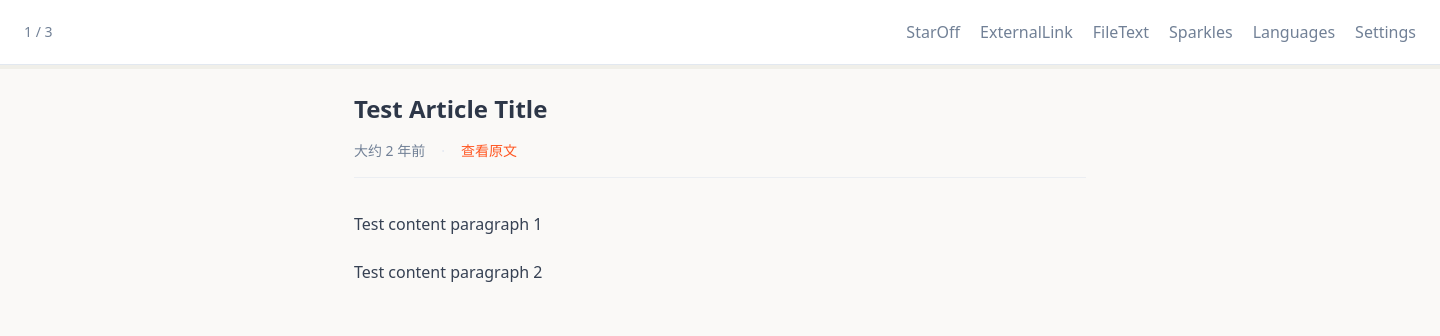
Test: ArticleViewer › error handling › should show error when generate summary fails
The image size is (1440, 336).
Step 1. Click the button titled "生成 AI 摘要" → (1201, 32), box [1161, 12, 1241, 52]
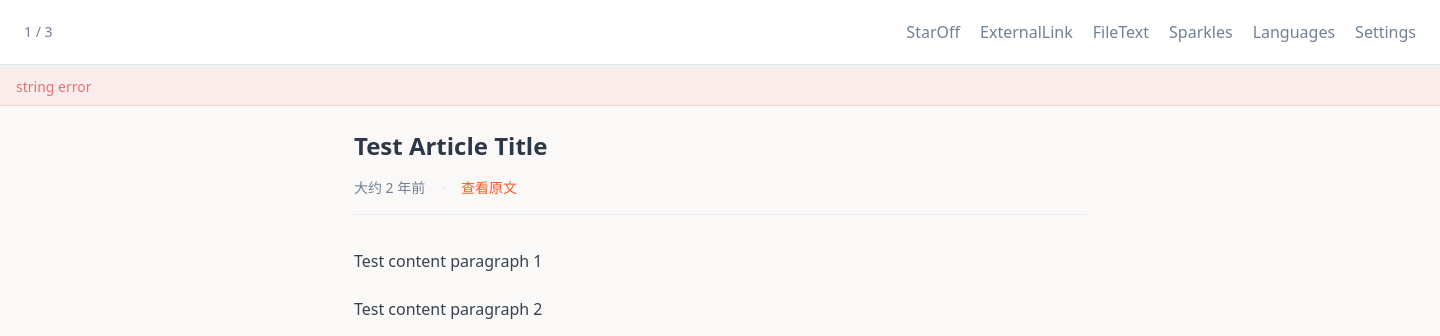
Now the text "string error" is shown, box [0, 69, 1439, 106]
